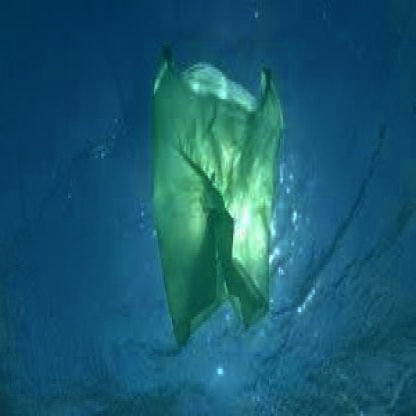pbag: (150, 45, 286, 359)
